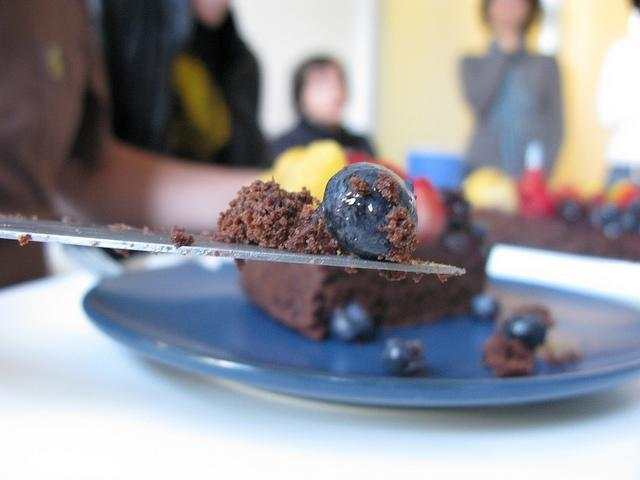blueberry: (322, 162, 418, 258), (328, 302, 379, 342), (380, 337, 425, 376), (502, 313, 546, 350), (440, 229, 481, 259), (468, 292, 500, 321), (586, 207, 608, 232), (561, 200, 585, 222), (618, 211, 638, 232), (604, 221, 626, 240), (438, 190, 459, 206), (626, 202, 640, 217)
strawberry: (412, 177, 446, 244), (346, 148, 408, 180), (546, 186, 584, 216), (518, 172, 542, 200)
